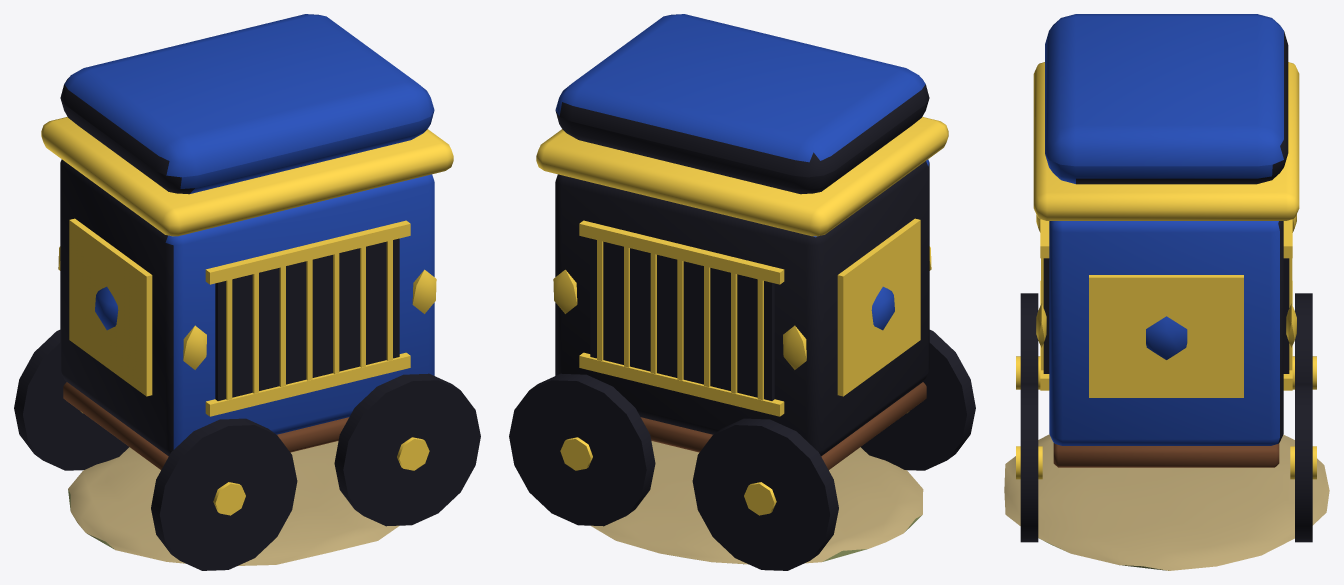
File: CircusWagonB.fbx
3 views of the same model, side by side, from view 1: azimuth 30°, elevation 25°; view 2: azimuth 150°, elevation 25°; view 3: azimuth 270°, elevation 25° (orthographic).
Parts seen in each view (by area): view 1: CircusWagonB; view 2: CircusWagonB; view 3: CircusWagonB.
Part boxes in pixels (x1,y1,x2,y2): CircusWagonB: (14, 14, 480, 570); CircusWagonB: (509, 14, 975, 570); CircusWagonB: (1004, 14, 1329, 570).
Size of the model in its own units: 1.71 by 2.09 by 1.47.
Materials: 1 (1 with a texture image).
